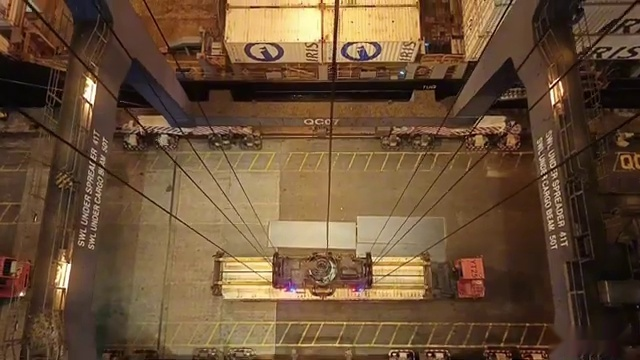container: (208, 247, 439, 302), (221, 5, 427, 64), (214, 0, 430, 34), (207, 1, 436, 31), (222, 7, 420, 40), (213, 0, 437, 22), (210, 0, 435, 20), (213, 0, 437, 16)
guide_mark: (72, 321, 547, 345), (110, 152, 538, 172)
spreader: (208, 248, 437, 300)
target_slot: (209, 249, 438, 305)
